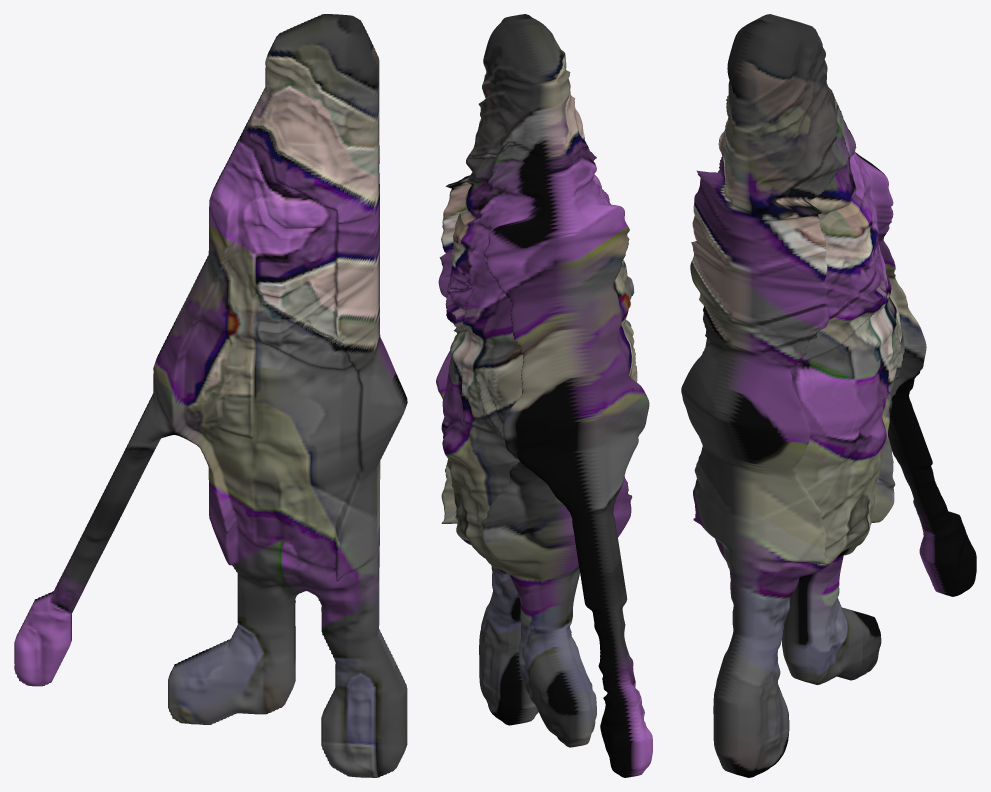
File: yuri_virus.glb
3 views of the same model, side by side, from view 1: azimuth 30°, elevation 25°; view 2: azimuth 150°, elevation 25°; view 3: azimuth 270°, elevation 25° (orthographic). The views are drawn at different scales.
Parts seen in each view (by area): view 1: yuri_virus; view 2: yuri_virus; view 3: yuri_virus.
Part boxes in pixels (box(x1,y1,x2,y2)): yuri_virus: box(14, 14, 407, 777); yuri_virus: box(436, 14, 652, 777); yuri_virus: box(681, 14, 976, 777).
Bounding box in the file's own units: 0.919 × 2.23 × 0.8039.
